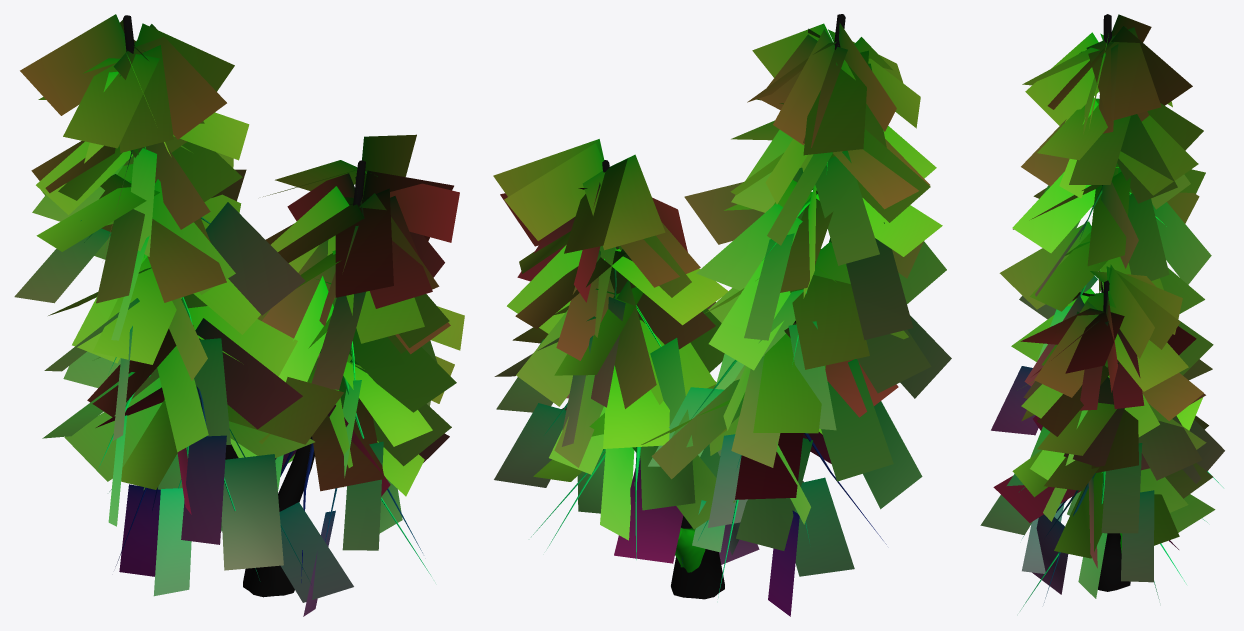
File: M_Pine_3_11.fbx
3 renders of one model, left to right at view 1: azimuth 30°, elevation 25°; view 2: azimuth 150°, elevation 25°; view 3: azimuth 270°, elevation 25°, orthographic. The views are drawn at different scales.
Visible parts, largest first — view 1: Tree_11; view 2: Tree_11; view 3: Tree_11.
Part boxes in pixels (x1,y1,x2,y2): Tree_11: (14, 14, 464, 616); Tree_11: (493, 14, 951, 616); Tree_11: (980, 14, 1224, 610).
Bounding box in the file's own units: 2058 × 2832 × 1241.
